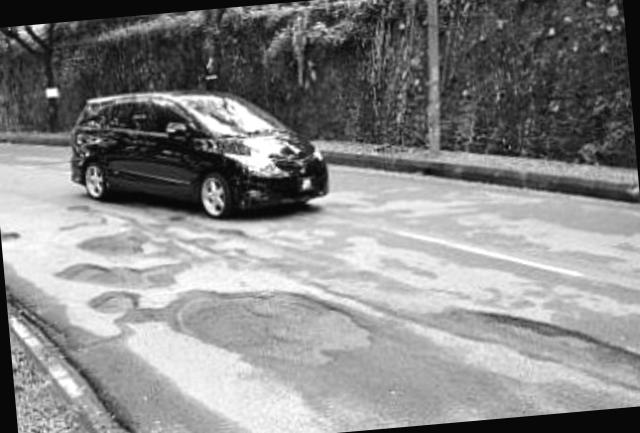Pothole: (166, 274, 374, 364), (451, 285, 639, 381), (59, 259, 150, 322), (1, 229, 22, 257)
